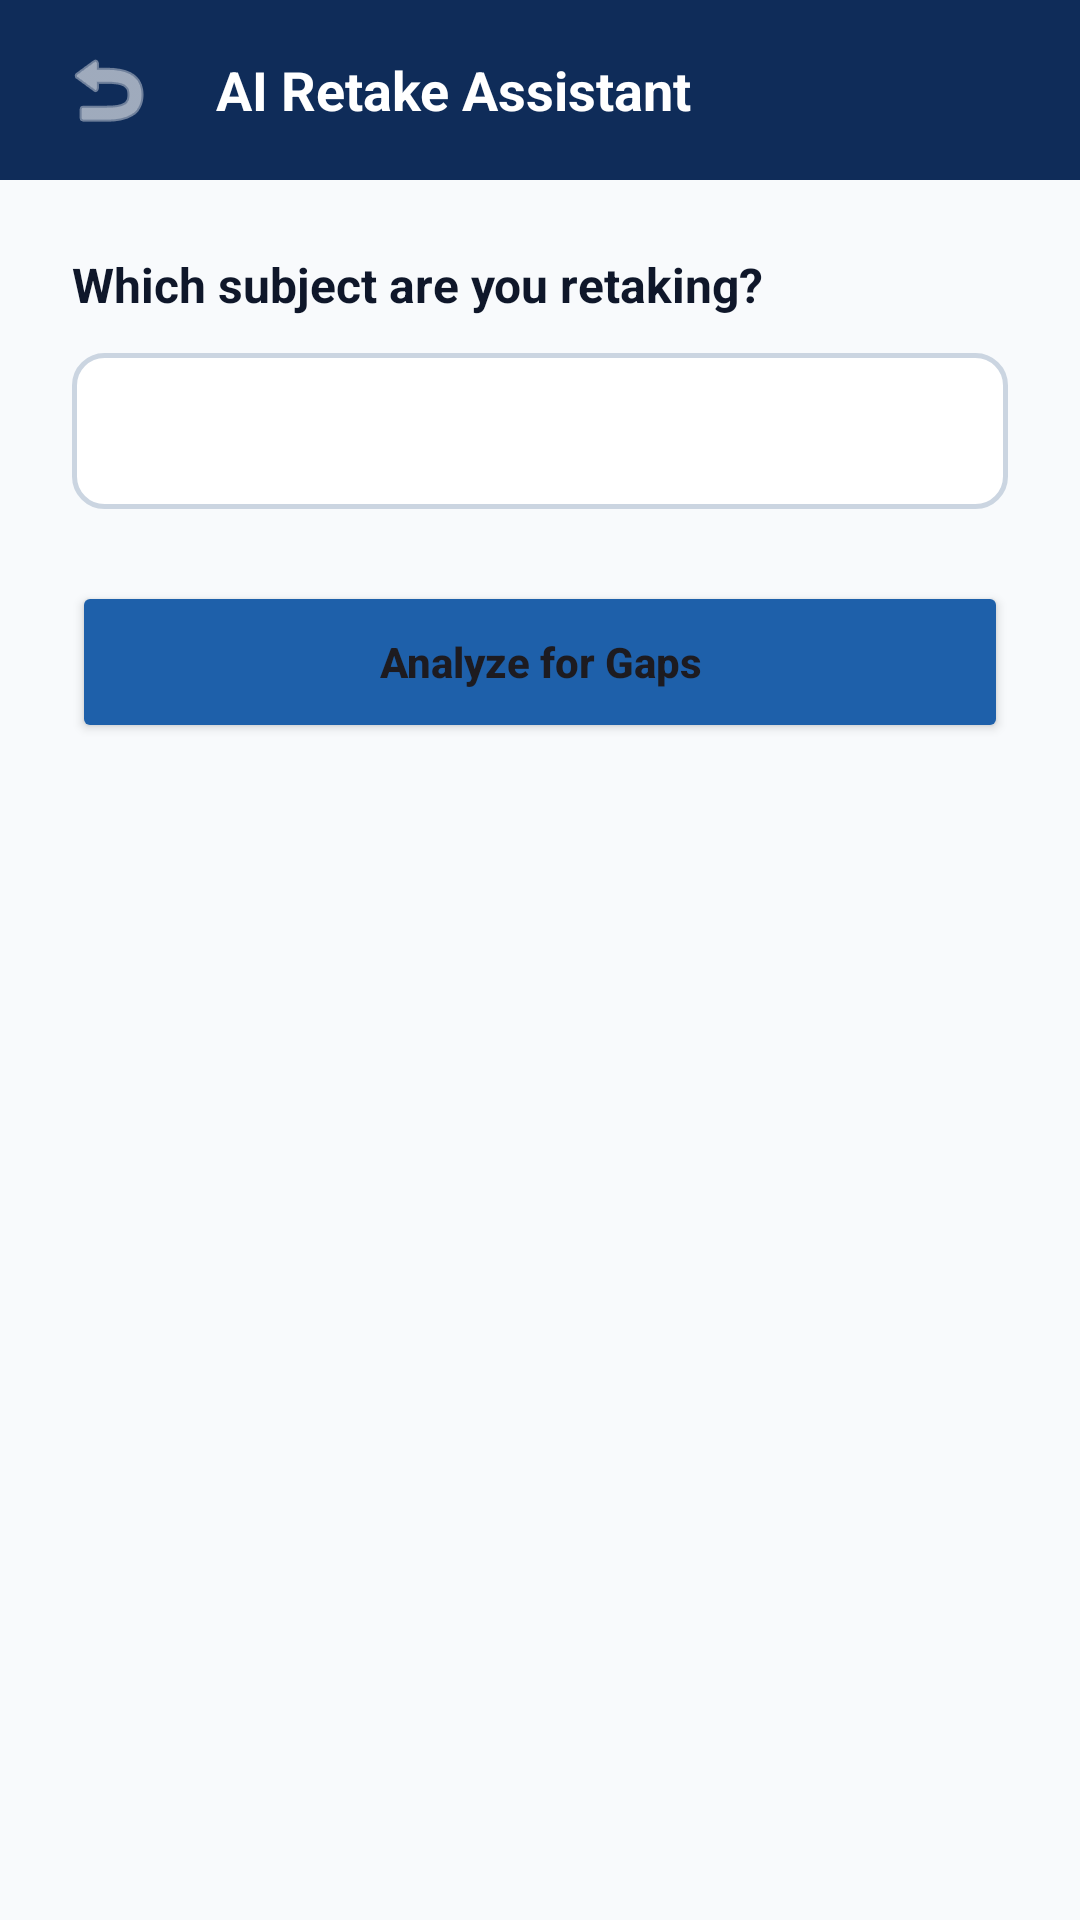

Named icons in this screenshot (1080w x 1920h) and their bounding boxes, [x1, y1, x2, y2]:
Back: [75, 59, 144, 122]
